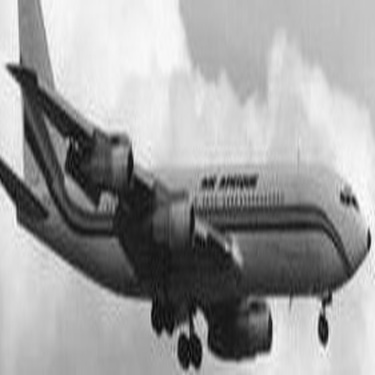airplane: (2, 1, 369, 373)
